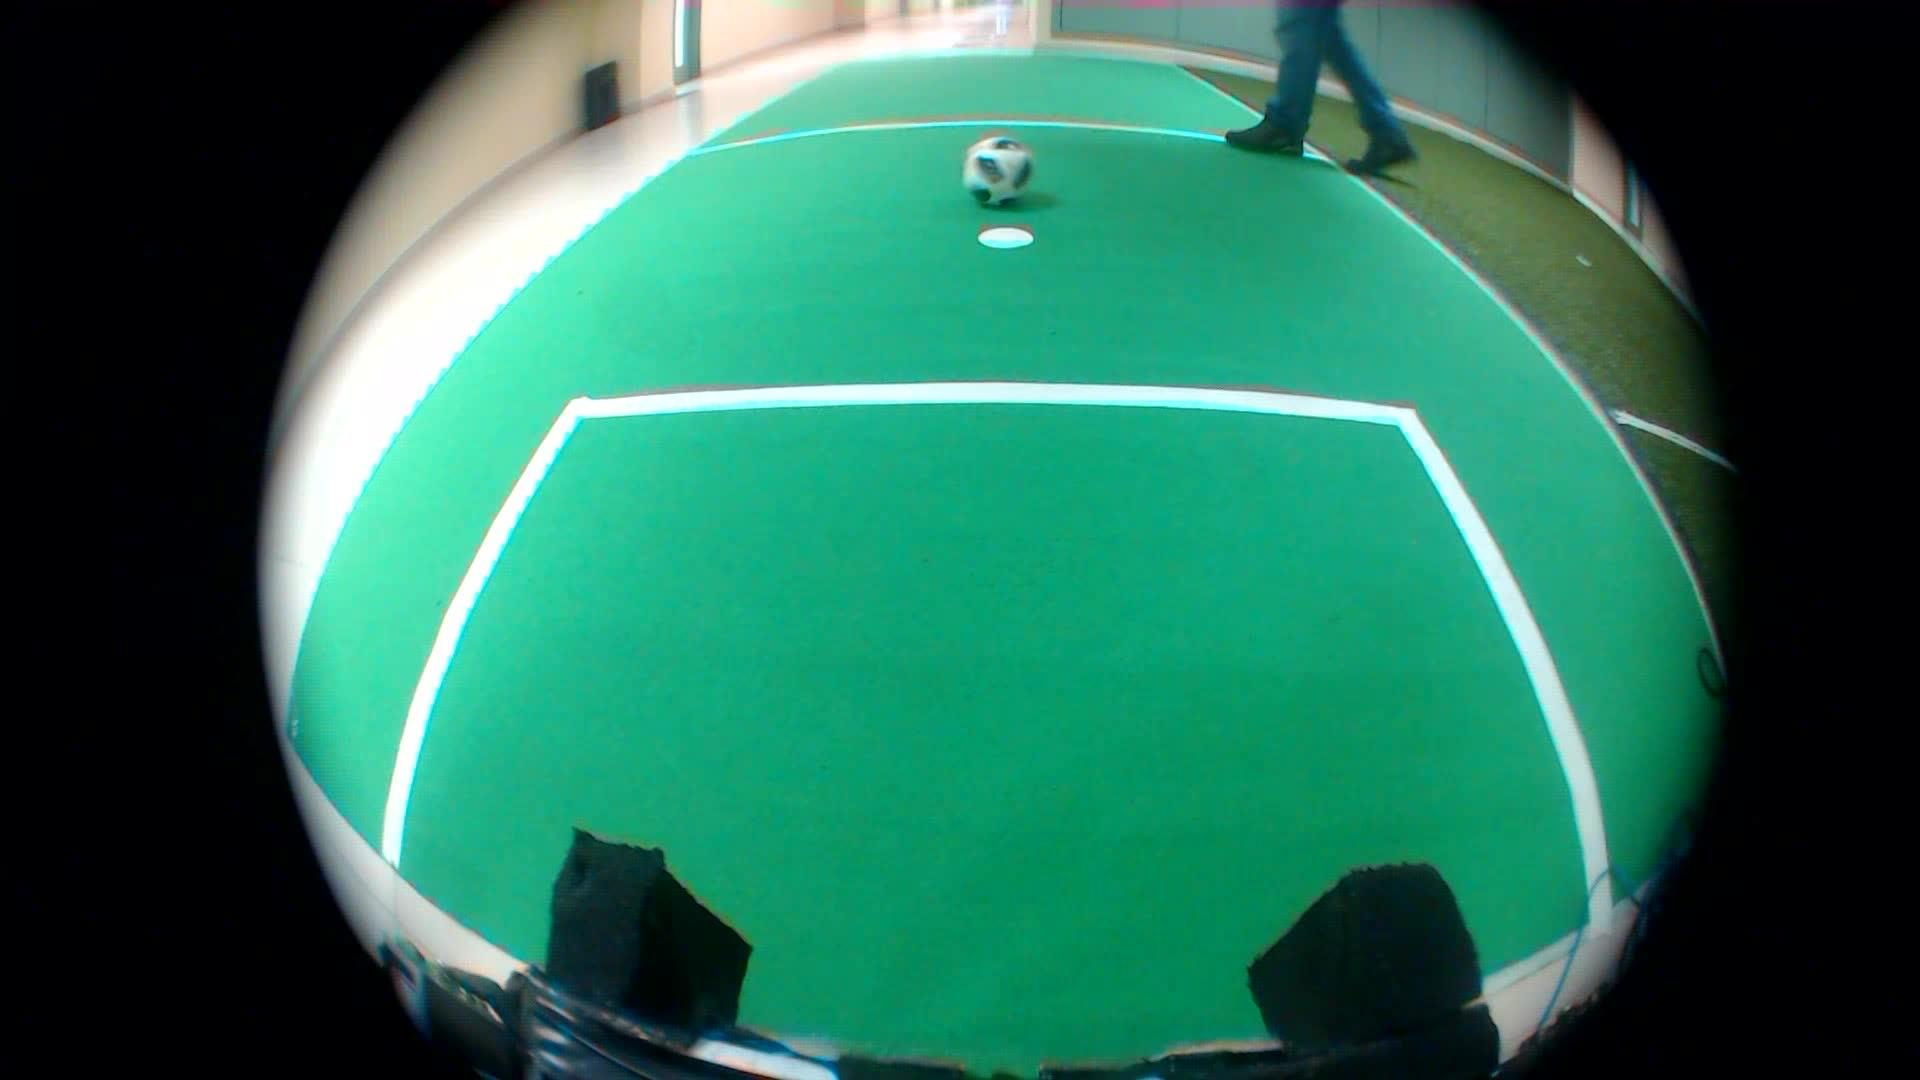ball: (959, 127, 1042, 222)
